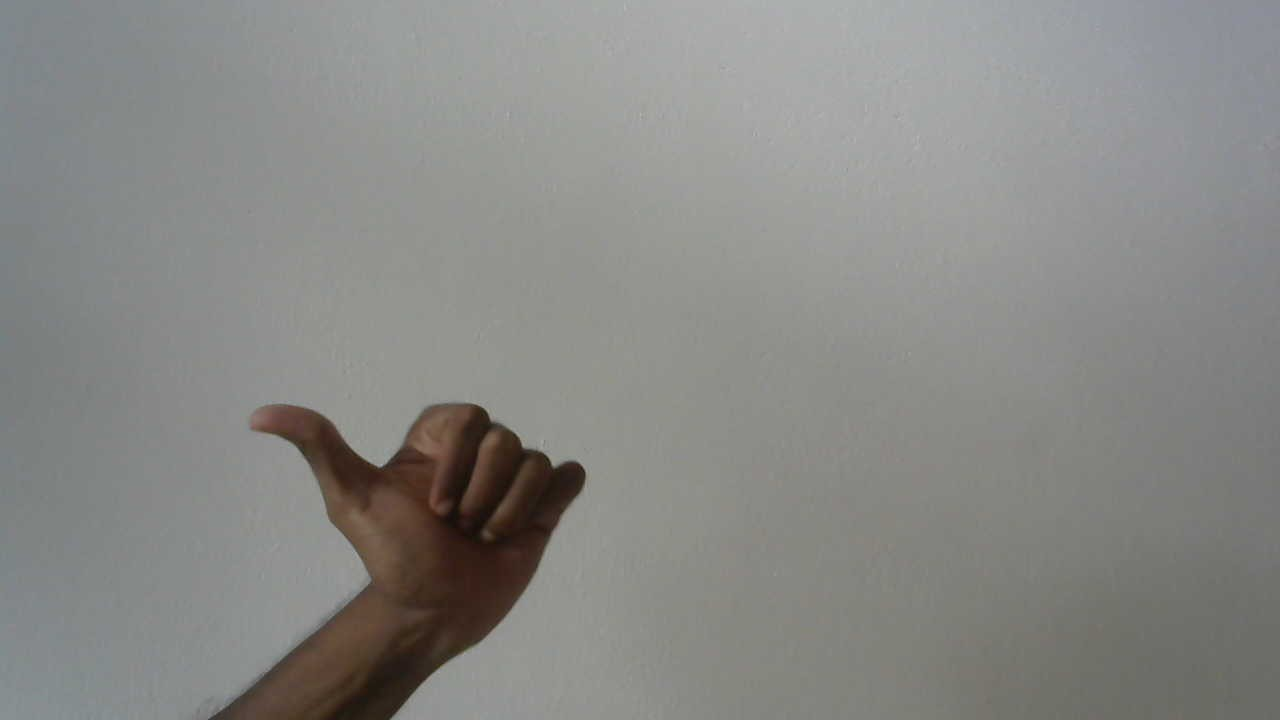thumbsup: (235, 388, 604, 647)
